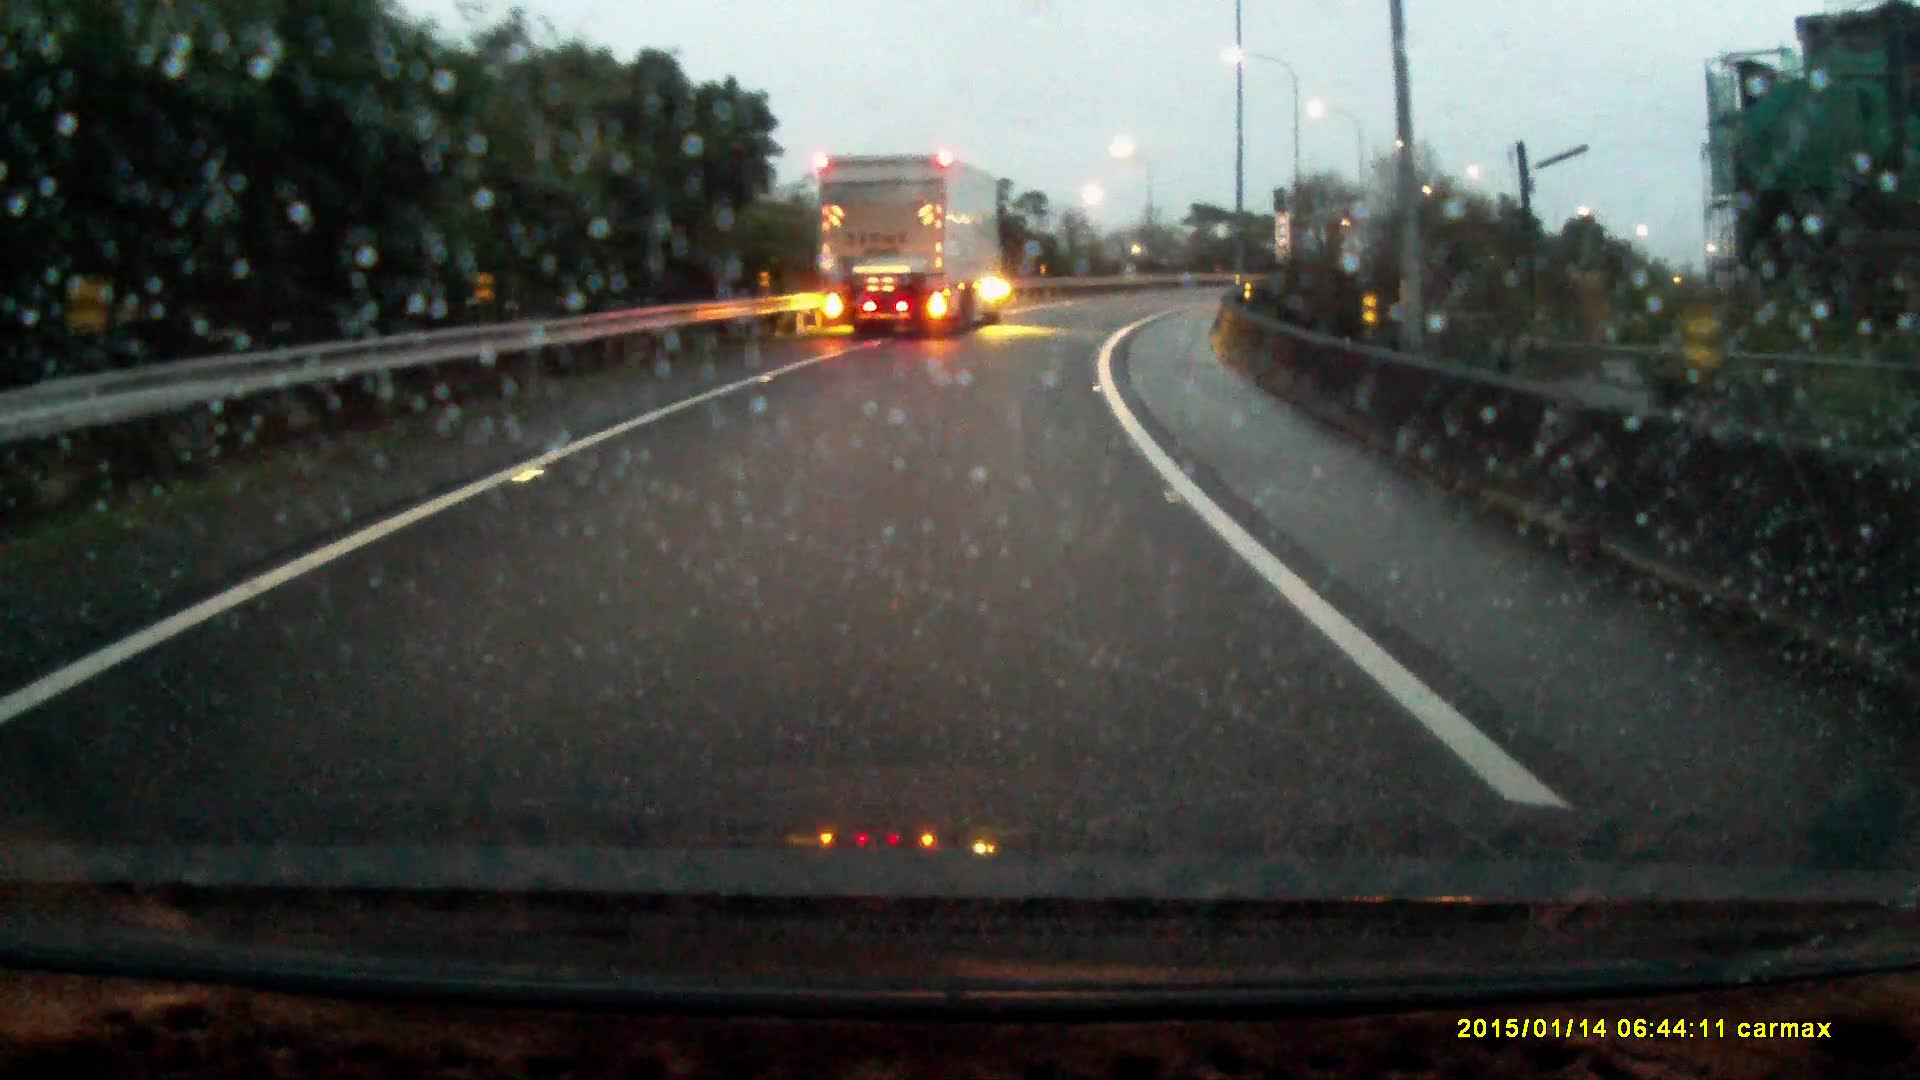vehicle: (825, 156, 1007, 339)
